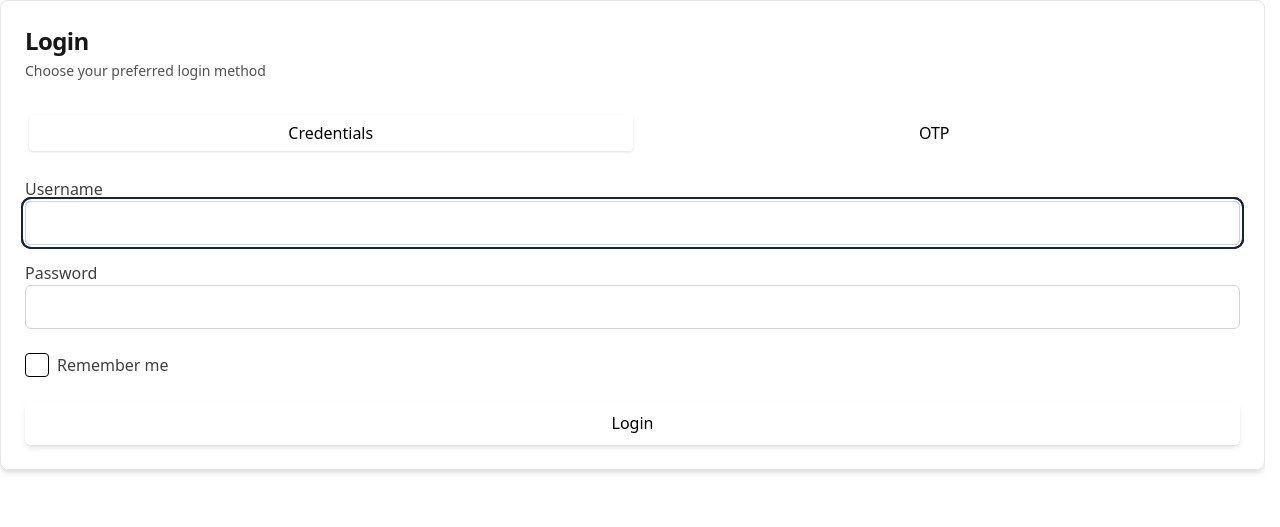
Scenario: LoginForm Component › should show improved error message for invalid credentials
The width and height of the screenshot is (1280, 527).
Type "testuser" into the field labelled "Username" at (632, 223), box [25, 201, 1240, 245]
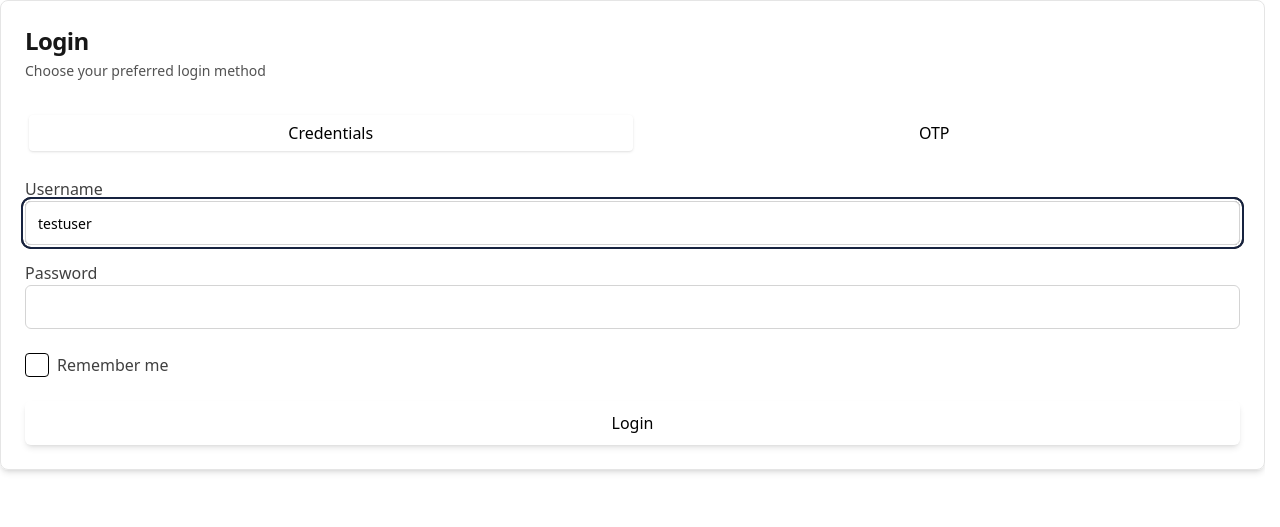
Type "wrongpassword" into the password field labelled "Password" at (632, 307), box [25, 285, 1240, 329]
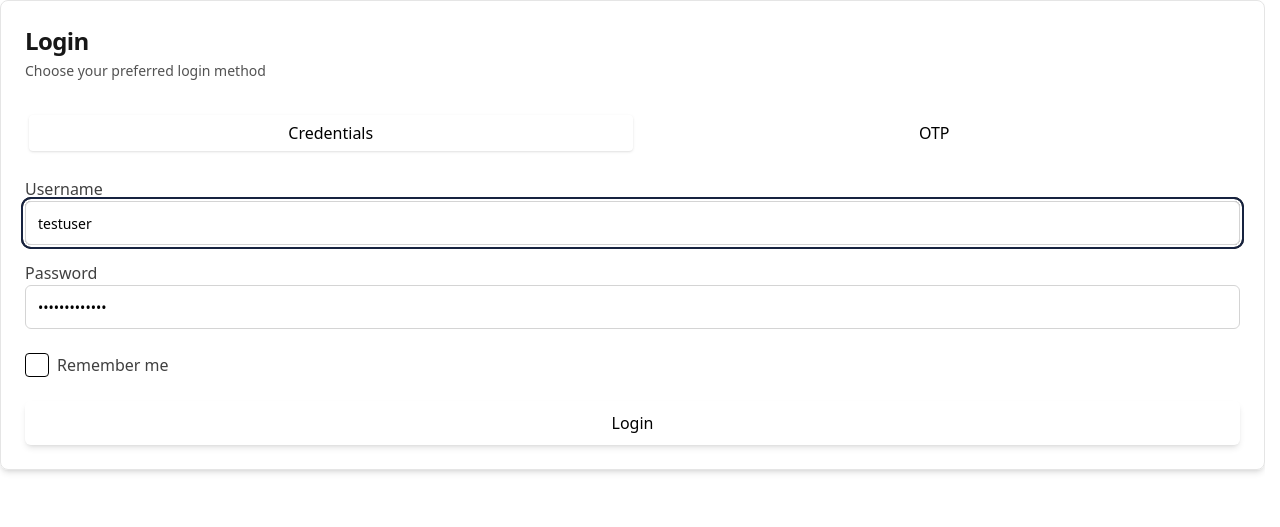
Click the button "Login" at (632, 423), box [25, 401, 1240, 445]
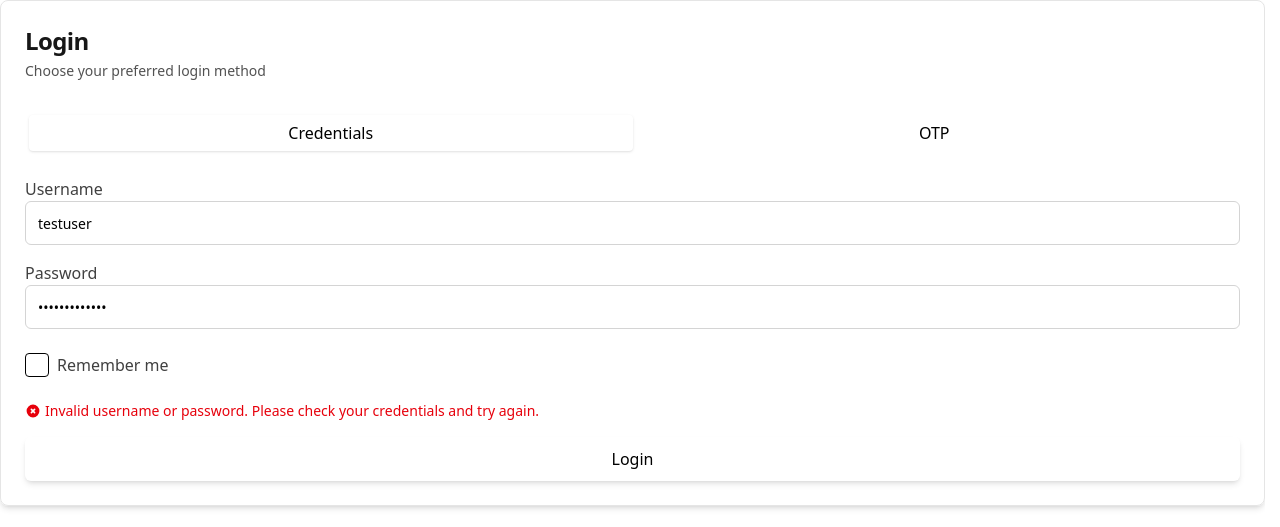
Check: the text "Invalid username or password. Please check your credentials and try again." is shown, box [25, 401, 539, 420]
